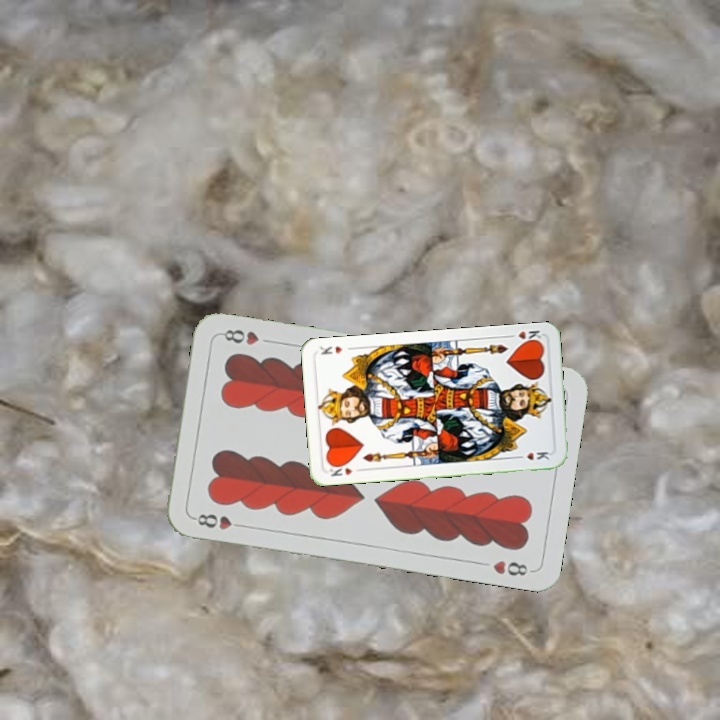H8: (189, 509, 248, 532)
HK: (503, 326, 544, 346), (326, 460, 365, 479)
